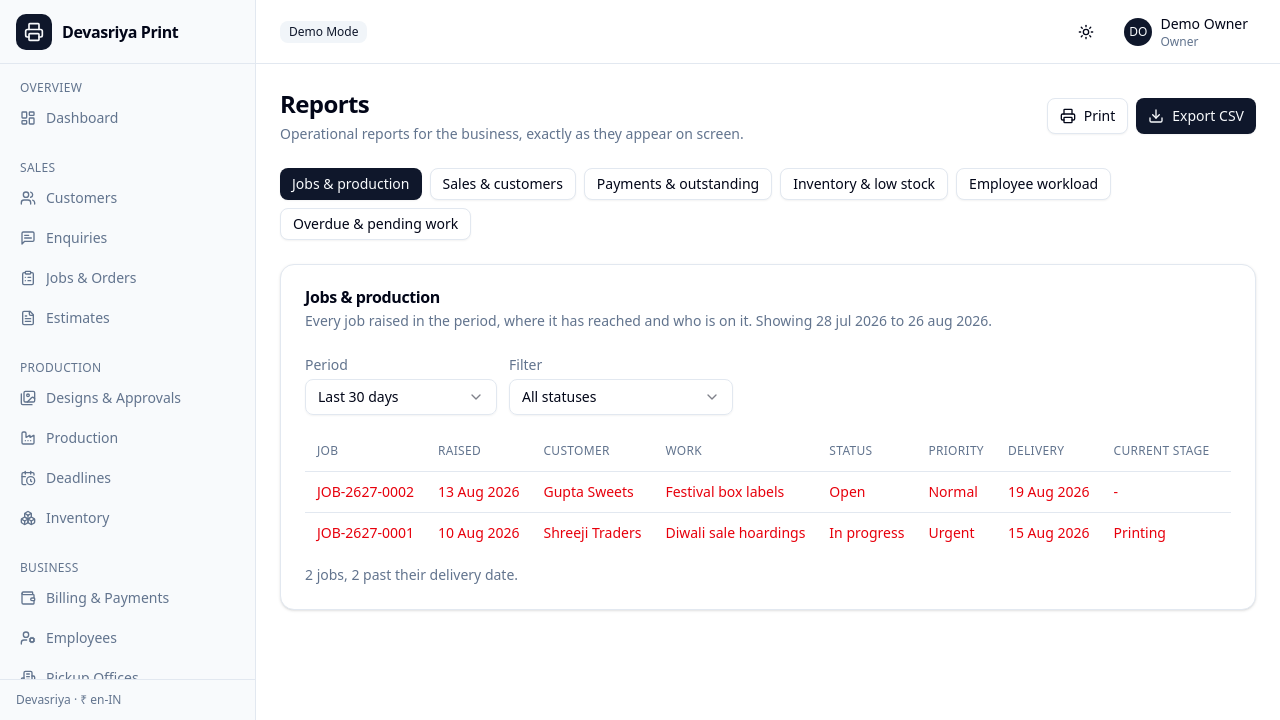
demo reports › narrows the inventory report to what needs reordering
Check: the heading "Reports" is shown, box left=280, top=87, right=369, bottom=120
Click the tab "Inventory & low stock": (864, 184) left=780, top=168, right=948, bottom=200
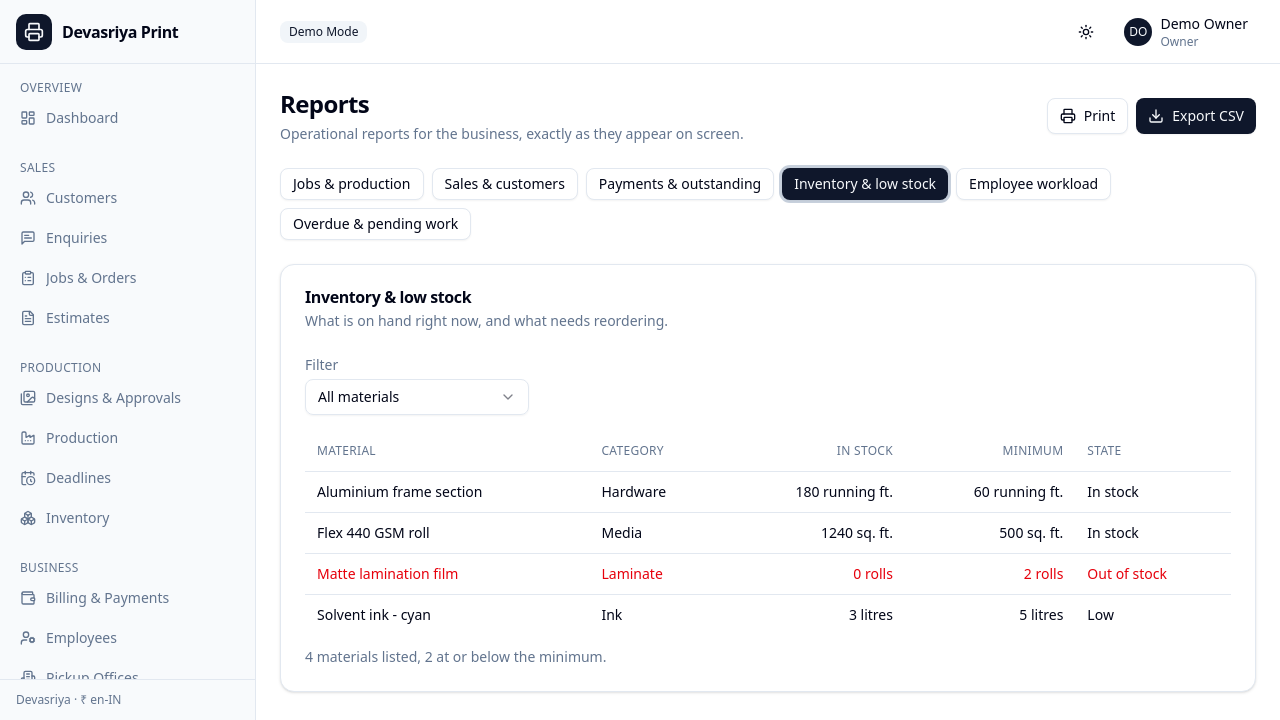
Click the dropdown named "Filter": (417, 397) left=305, top=379, right=529, bottom=415
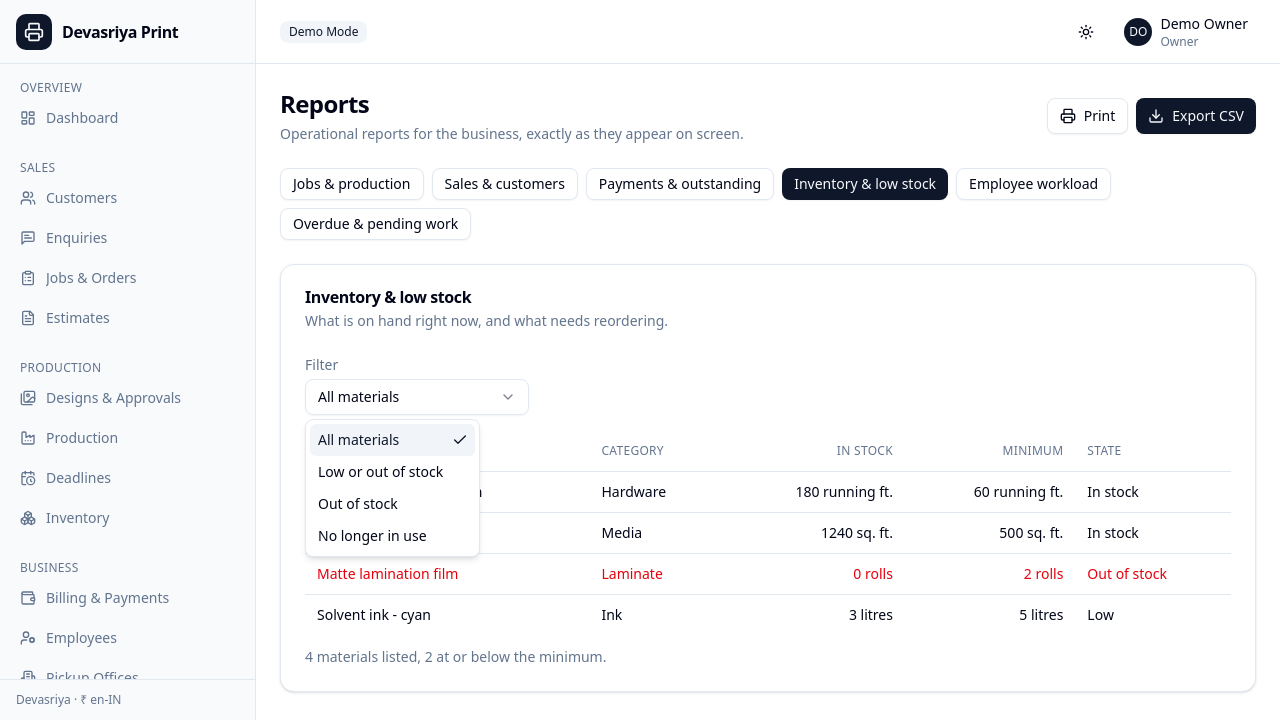
Click the option "Low or out of stock": (381, 472) left=318, top=462, right=443, bottom=481
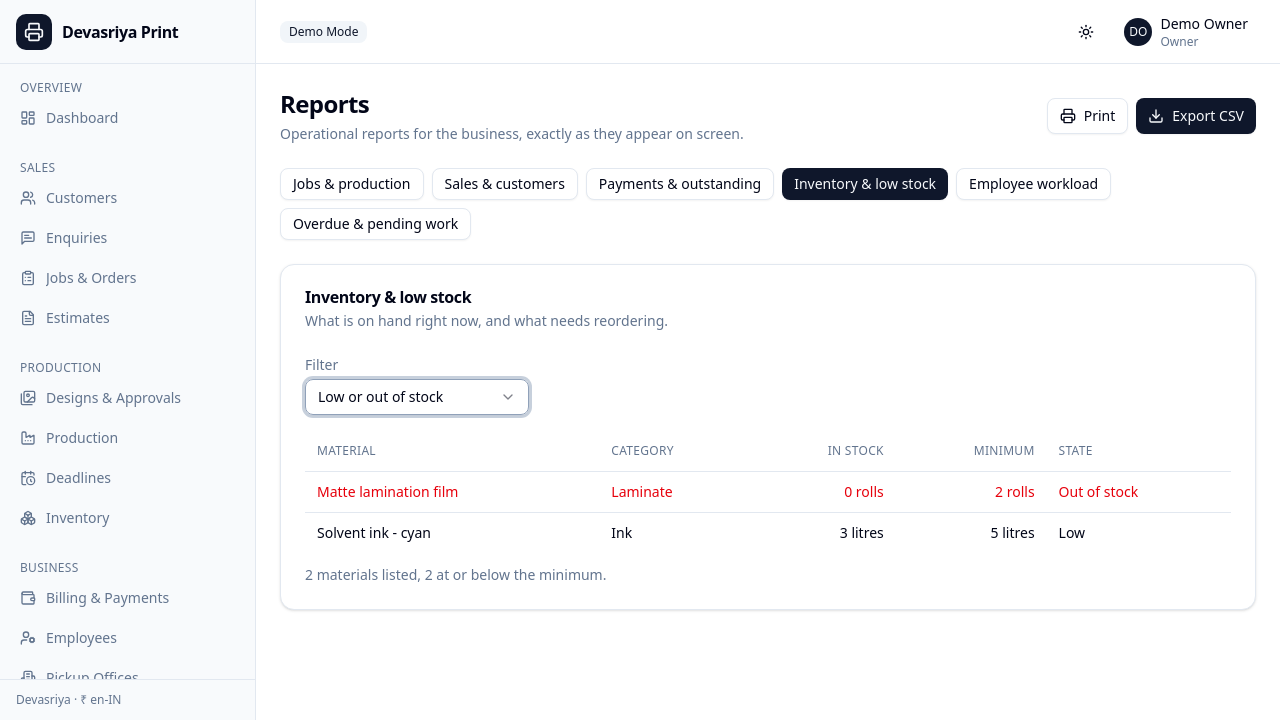
Check: the text "Solvent ink - cyan" is shown, box left=305, top=512, right=599, bottom=552
Check: the text "Flex 440 GSM roll" is gone
